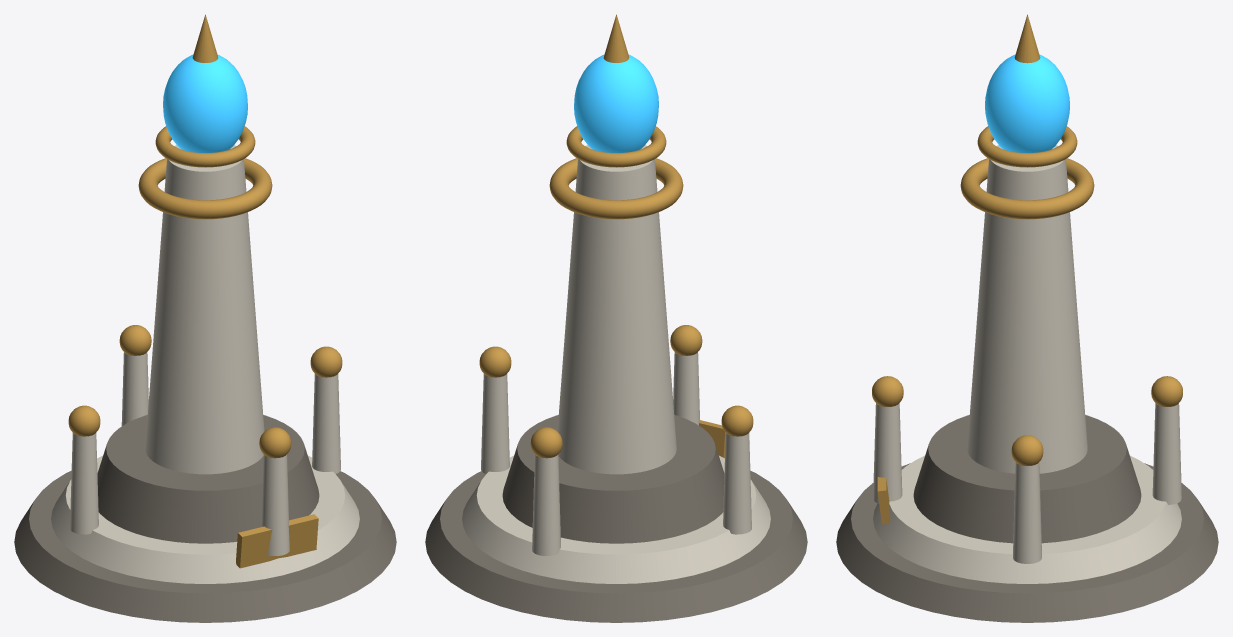
Rendered from tugu-contoh.glb.
3 renders of one model, left to right at view 1: azimuth 30°, elevation 25°; view 2: azimuth 150°, elevation 25°; view 3: azimuth 270°, elevation 25°, orthographic.
Visible parts, largest first — view 1: BadanTugu, TanggaBawah, Plinth, TanggaAtas, Mahkota, KerahBawah, Pilar3, Pilar1, Pilar2, PapanNama, KerahAtas, Pilar4 (+5 smaller); view 2: BadanTugu, TanggaBawah, Plinth, TanggaAtas, Mahkota, KerahBawah, Pilar4, Pilar3, Pilar1, KerahAtas, Pilar2, BolaPilar1 (+4 smaller); view 3: BadanTugu, TanggaBawah, Plinth, TanggaAtas, Mahkota, KerahBawah, Pilar1, Pilar4, Pilar2, KerahAtas, BolaPilar1, BolaPilar2 (+2 smaller).
Part boxes in pixels (x1=…): BadanTugu: x1=145, y1=145, x2=264, y2=474; TanggaBawah: x1=14, y1=470, x2=396, y2=622; Plinth: x1=97, y1=415, x2=319, y2=543; TanggaAtas: x1=51, y1=455, x2=359, y2=583; Mahkota: x1=163, y1=54, x2=247, y2=152; KerahBawah: x1=138, y1=158, x2=272, y2=219; Pilar3: x1=70, y1=433, x2=98, y2=534; Pilar1: x1=312, y1=374, x2=340, y2=473; Pilar2: x1=261, y1=454, x2=289, y2=555; PapanNama: x1=236, y1=514, x2=318, y2=568; KerahAtas: x1=155, y1=126, x2=255, y2=167; Pilar4: x1=121, y1=352, x2=148, y2=425; BadanTugu: x1=557, y1=145, x2=676, y2=474; TanggaBawah: x1=425, y1=470, x2=807, y2=622; Plinth: x1=502, y1=415, x2=724, y2=543; TanggaAtas: x1=462, y1=455, x2=770, y2=583; Mahkota: x1=574, y1=54, x2=658, y2=152; KerahBawah: x1=549, y1=158, x2=683, y2=219; Pilar4: x1=532, y1=454, x2=560, y2=555; Pilar3: x1=723, y1=433, x2=751, y2=534; Pilar1: x1=481, y1=374, x2=509, y2=473; KerahAtas: x1=566, y1=126, x2=666, y2=167; Pilar2: x1=673, y1=352, x2=699, y2=425; BolaPilar1: x1=479, y1=346, x2=511, y2=377; BadanTugu: x1=967, y1=145, x2=1087, y2=473; TanggaBawah: x1=836, y1=463, x2=1218, y2=622; Plinth: x1=913, y1=415, x2=1141, y2=543; TanggaAtas: x1=873, y1=455, x2=1181, y2=583; Mahkota: x1=985, y1=54, x2=1069, y2=152; KerahBawah: x1=960, y1=158, x2=1094, y2=219; Pilar1: x1=1013, y1=462, x2=1041, y2=563; Pilar4: x1=1152, y1=403, x2=1181, y2=504; Pilar2: x1=873, y1=403, x2=902, y2=503; KerahAtas: x1=977, y1=126, x2=1077, y2=167; BolaPilar1: x1=1011, y1=435, x2=1043, y2=465; BolaPilar2: x1=872, y1=376, x2=903, y2=406.
Size of the model in its own units: 5.2 by 7.92 by 5.2.
